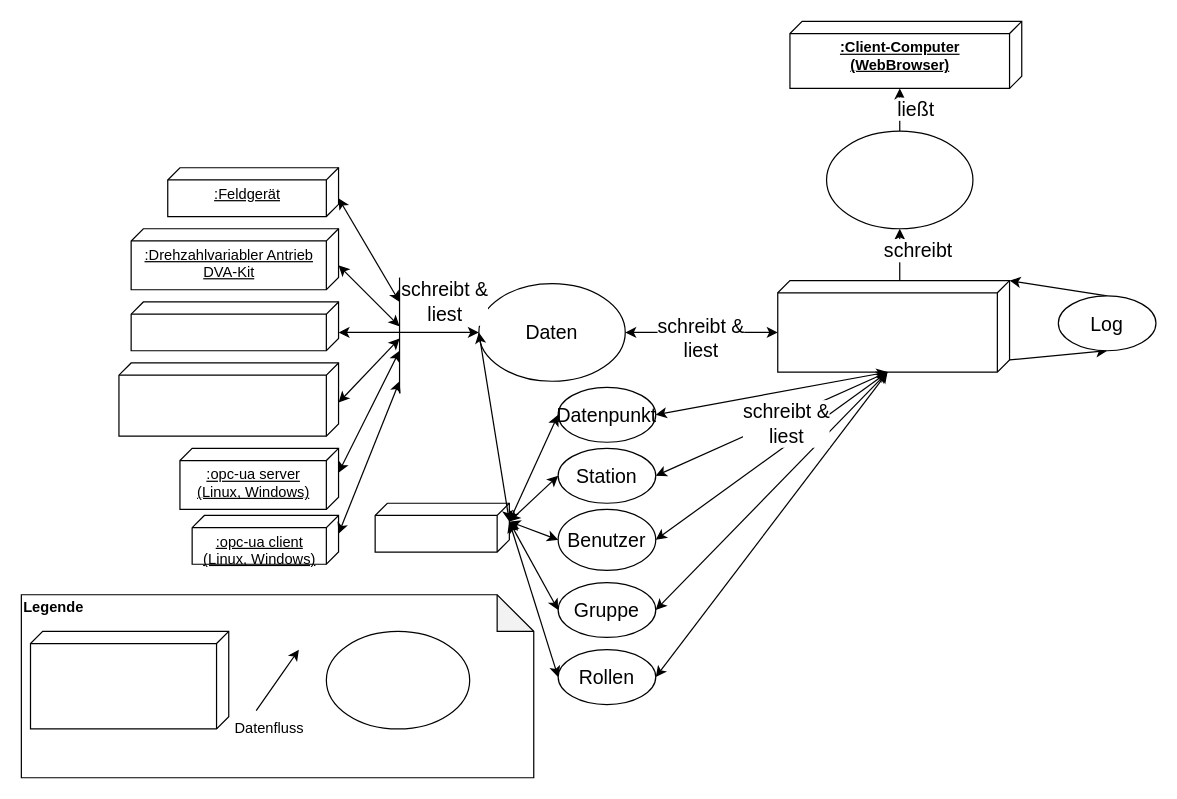
Some shapes in this 1177 by 799 pixel diagram are drawn without their labels. Each missing label, with the centre of its shape:
":Data+-Server (Linux)" belongs at pixel 893 325.
":Motormontierter Frequenzumrichter HFI-MM" belongs at pixel 228 399.
":name (Execution Environment)" belongs at pixel 129 679.
":Servoregler HFI-CM" belongs at pixel 234 326.
":web server" belongs at pixel 441 527.
"Datentyp" belongs at pixel 397 679.
"HTML,CSS, JS" belongs at pixel 899 179.
